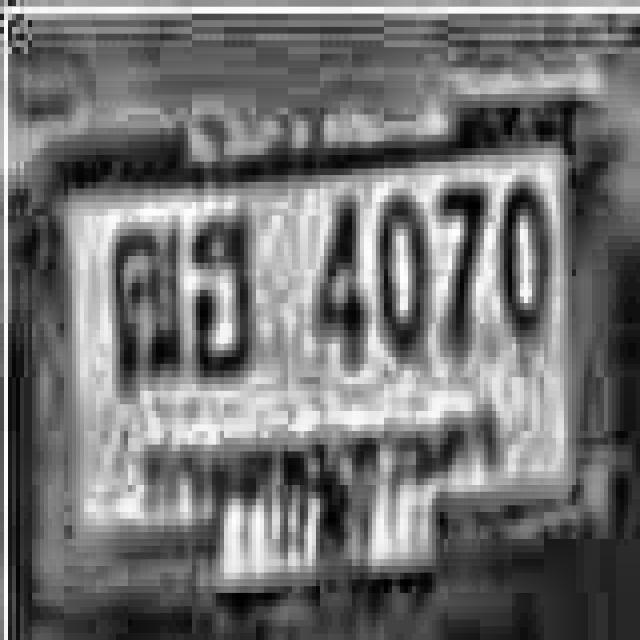license-plate: (29, 112, 618, 598)
